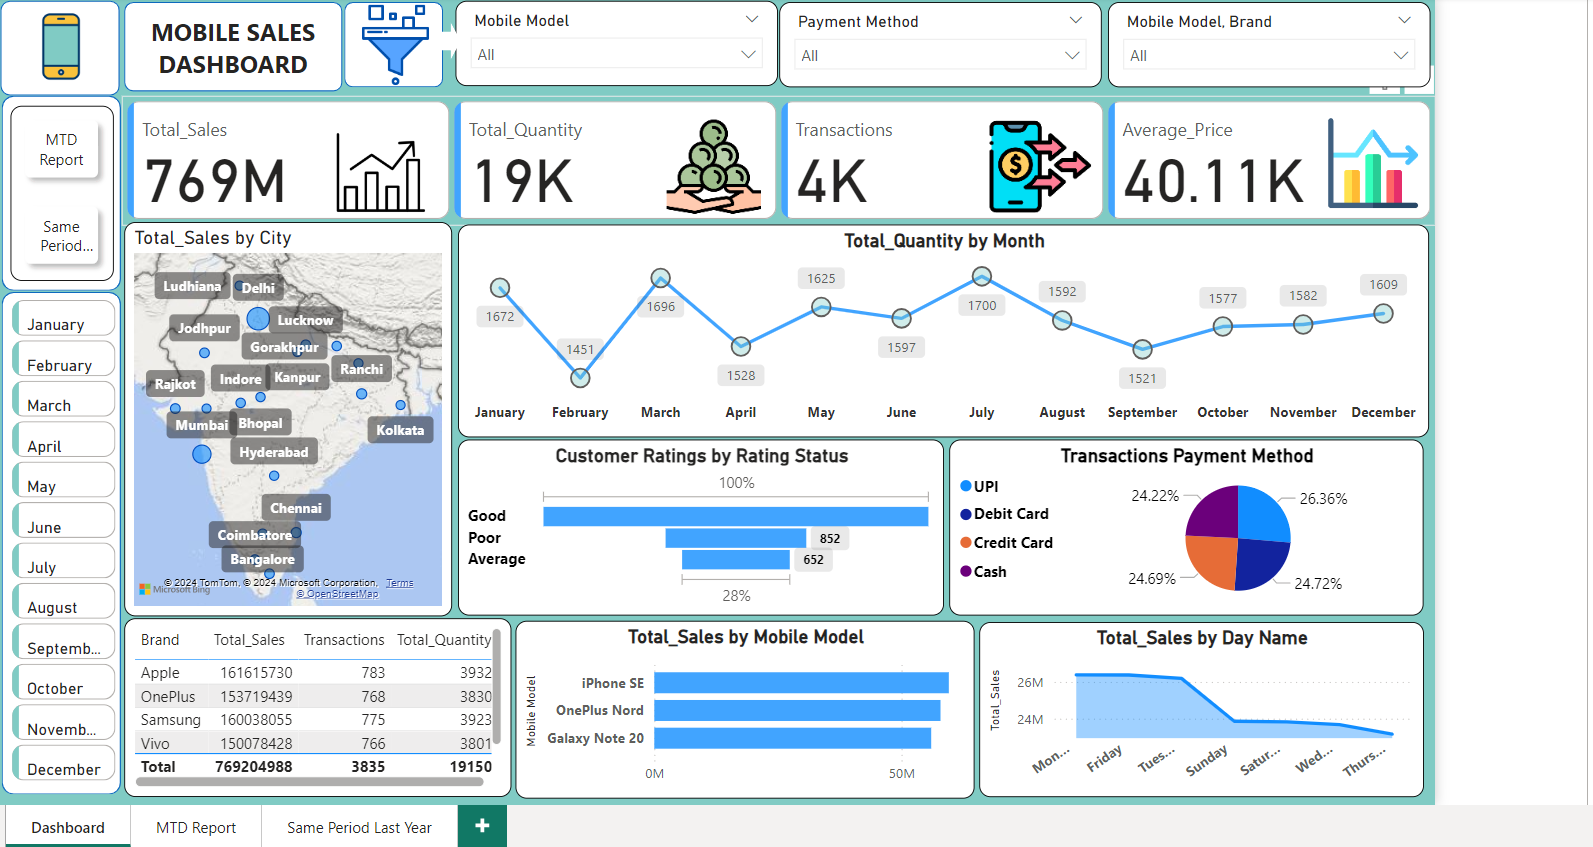

This screenshot's page, from the dashboard's own definition file:
{"tool":"powerbi","page":{"name":"Dashboard","canvas":[1280,720],"ordinal":0},"visuals":[{"type":"shape","box":[2.4,3.6,106.2,84.5],"z":0},{"type":"image","box":[3.6,0,105,88.1],"z":1000},{"type":"shape","box":[3.6,88.1,106.2,173.7],"z":2000},{"type":"shape","box":[3.6,263,106.2,447.6],"z":3000},{"type":"advancedSlicerVisual","fields":{"Values":["Custom_Calender.Date.Variation.Date Hierarchy.Month"]},"box":[7.2,265.4,102.5,447.6],"z":4000},{"type":"cardVisual","fields":{"Data":["Mobile_Sales_Data.Total_Sales","Mobile_Sales_Data.Total_Quantity","Mobile_Sales_Data.Transactions","Mobile_Sales_Data.Average_Price"]},"box":[109.8,88.1,1170.2,115.8],"z":5000},{"type":"slicer","fields":{"Values":["Mobile_Sales_Data.Mobile Model"]},"box":[407.8,3.6,287.1,76],"z":6000},{"type":"slicer","fields":{"Values":["Mobile_Sales_Data.Payment Method"]},"box":[696.1,4.8,287.1,76],"z":7000},{"type":"slicer","fields":{"Values":["Mobile_Sales_Data.Mobile Model","Mobile_Sales_Data.Brand"]},"box":[988.1,4.8,287.1,76],"z":8000},{"type":"shape","box":[308.8,4.8,88.1,76],"z":9000},{"type":"image","box":[296.8,1.2,113.4,83.2],"z":10000},{"type":"shape","box":[394.5,21.7,18.1,33.8],"z":11000},{"type":"shape","box":[112.2,4.8,194.2,79.6],"z":12000},{"type":"textbox","box":[130.3,10.9,158,68.8],"z":13000},{"type":"map","fields":{"Category":["Mobile_Sales_Data.City"],"Size":["Mobile_Sales_Data.Total_Sales"]},"box":[112.2,200.3,292,351.1],"z":14000},{"type":"lineChart","fields":{"Category":["Custom_Calender.Date.Variation.Date Hierarchy.Month"],"Y":["Mobile_Sales_Data.Total_Quantity"]},"box":[410.2,202.7,865,189.4],"z":15000},{"type":"funnel","title":"Customer Ratings by Rating Status","fields":{"Y":["CountNonNull(Mobile_Sales_Data.Customer Ratings)"],"Category":["Mobile_Sales_Data.Rating Status"]},"box":[410.2,394.5,433.1,156.8],"z":16000},{"type":"pieChart","title":"Transactions Payment Method","fields":{"Y":["Mobile_Sales_Data.Transactions"],"Category":["Mobile_Sales_Data.Payment Method"]},"box":[846.9,394.5,422.3,156.8],"z":17000},{"type":"clusteredBarChart","fields":{"Category":["Mobile_Sales_Data.Mobile Model"],"Y":["Mobile_Sales_Data.Total_Sales"]},"box":[460.9,555,409,158],"z":18000},{"type":"areaChart","fields":{"Y":["Mobile_Sales_Data.Total_Sales"],"Category":["Custom_Calender.Day Name"]},"box":[873.5,556.2,395.7,155.6],"z":19000},{"type":"tableEx","fields":{"Values":["Mobile_Sales_Data.Brand","Mobile_Sales_Data.Total_Sales","Mobile_Sales_Data.Transactions","Mobile_Sales_Data.Total_Quantity"]},"box":[112.2,553.8,345,159.3],"z":20000},{"type":"pageNavigator","box":[10.9,96.5,91.7,155.6],"z":20001}]}

Visuals, with their boxes in screenshot pixels (x1, y1, x2, y2):
shape: bbox(0, 0, 117, 94)
image: bbox(0, 0, 117, 94)
shape: bbox(0, 94, 119, 289)
shape: bbox(0, 290, 119, 790)
advancedSlicerVisual - Custom_Calender.Date.Variation.Date Hierarchy.Month: bbox(4, 293, 119, 793)
cardVisual - Mobile_Sales_Data.Total_Sales x Mobile_Sales_Data.Total_Quantity: bbox(119, 94, 1427, 224)
slicer - Mobile_Sales_Data.Mobile Model: bbox(452, 0, 773, 85)
slicer - Mobile_Sales_Data.Payment Method: bbox(774, 1, 1095, 86)
slicer - Mobile_Sales_Data.Mobile Model x Mobile_Sales_Data.Brand: bbox(1101, 1, 1422, 86)
shape: bbox(341, 1, 440, 86)
image: bbox(328, 0, 454, 90)
shape: bbox(437, 20, 457, 58)
shape: bbox(121, 1, 338, 90)
textbox: bbox(142, 8, 318, 85)
map - Mobile_Sales_Data.City x Mobile_Sales_Data.Total_Sales: bbox(121, 220, 448, 612)
lineChart - Custom_Calender.Date.Variation.Date Hierarchy.Month x Mobile_Sales_Data.Total_Quantity: bbox(454, 222, 1422, 434)
"Customer Ratings by Rating Status" funnel: bbox(454, 437, 939, 612)
"Transactions Payment Method" pieChart: bbox(943, 437, 1415, 612)
clusteredBarChart - Mobile_Sales_Data.Mobile Model x Mobile_Sales_Data.Total_Sales: bbox(511, 616, 968, 793)
areaChart - Mobile_Sales_Data.Total_Sales x Custom_Calender.Day Name: bbox(972, 618, 1415, 792)
tableEx - Mobile_Sales_Data.Brand x Mobile_Sales_Data.Total_Sales: bbox(121, 615, 507, 793)
pageNavigator: bbox(8, 104, 111, 278)
